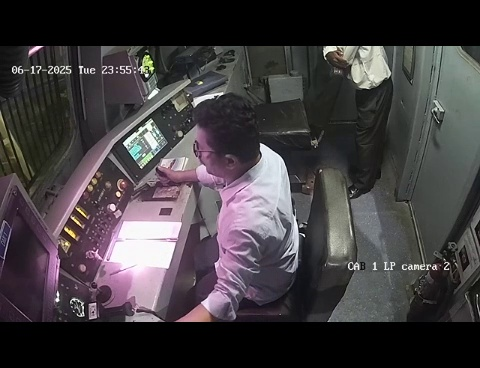horn_inactive: (85, 269, 124, 305)
